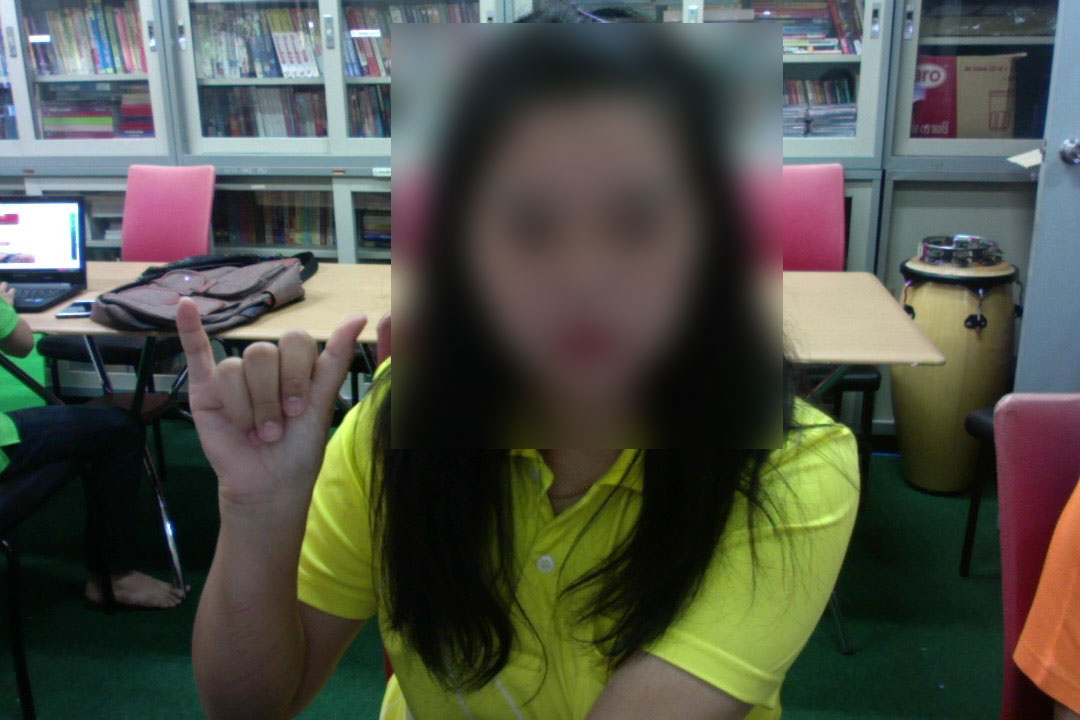yor: (169, 286, 373, 506)
